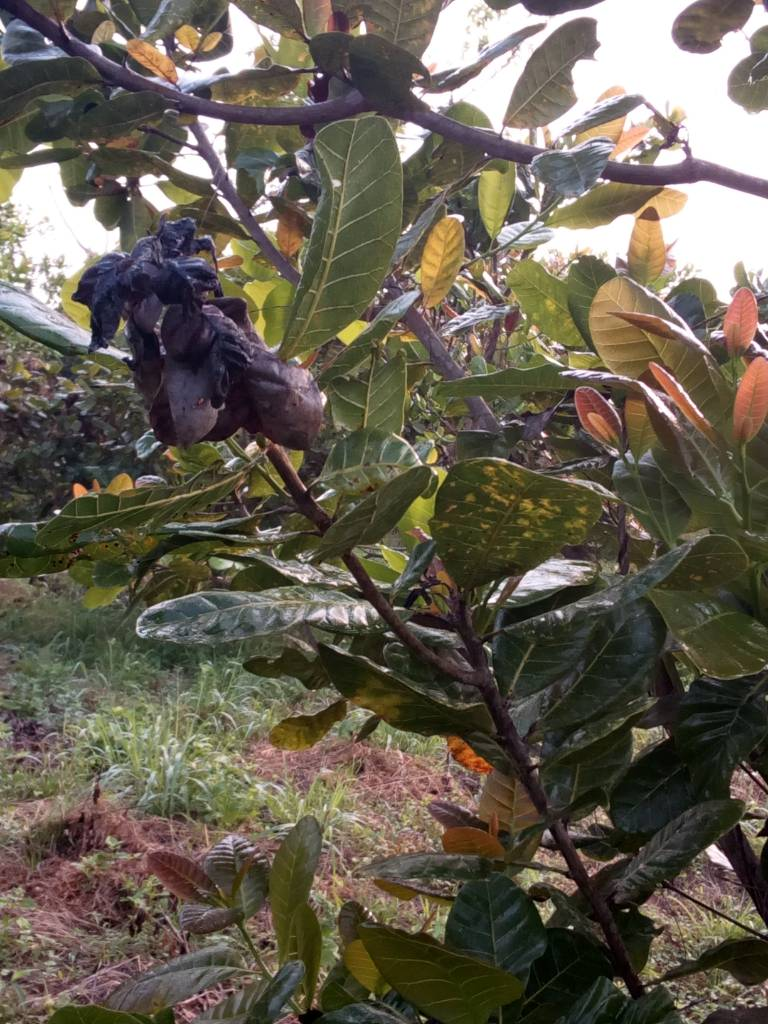Dessèchement des bourgeons: (75, 225, 332, 450)
